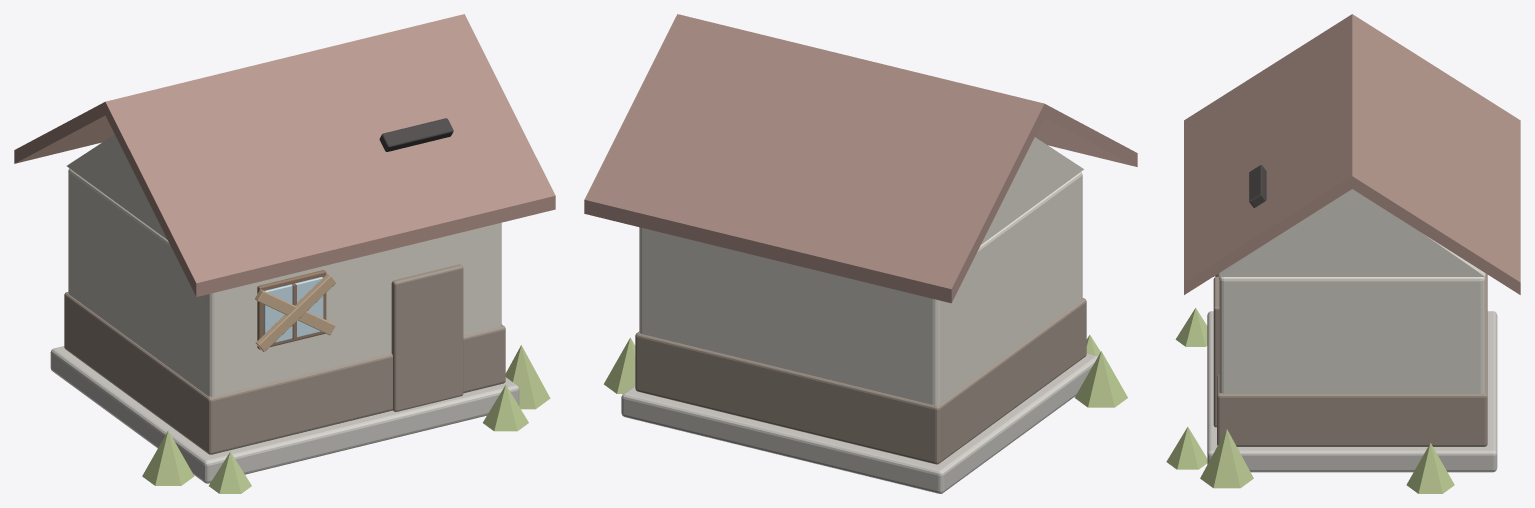
File: empty_house.glb
The picture shows the model from 3 angles, left to right: view 1: azimuth 30°, elevation 25°; view 2: azimuth 150°, elevation 25°; view 3: azimuth 270°, elevation 25°; orthographic projection. The views are drawn at different scales.
Parts seen in each view (by area): view 1: empty_house; view 2: empty_house; view 3: empty_house.
Part boxes in pixels (x1,y1,x2,y2): empty_house: (14,14,555,493); empty_house: (584,14,1137,493); empty_house: (1166,14,1520,493).
Bounding box in the file's own units: 5.44 × 4.33 × 4.53.
